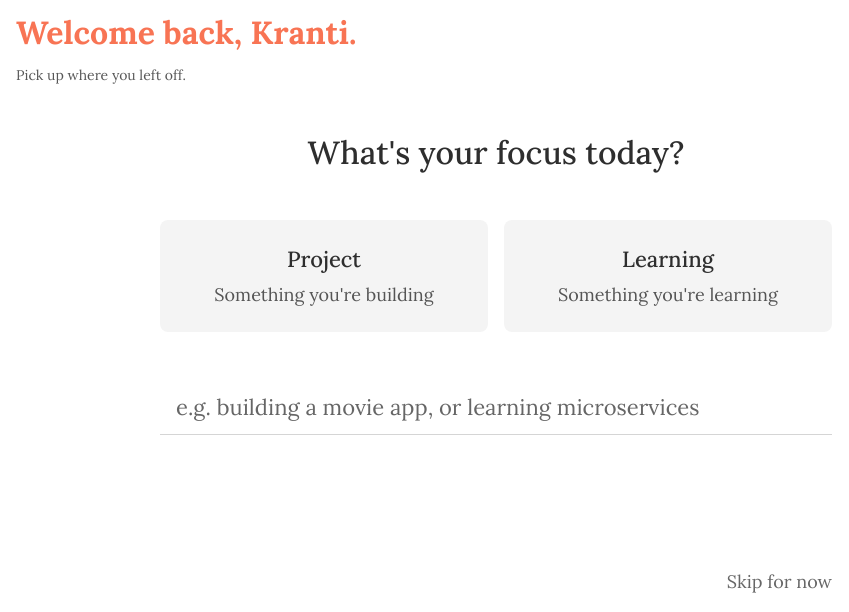
Scenario: Home › skipping the prompt (R9) › should reveal the dashboard in place, with no navigation
Click the button "Skip for now" at (779, 582), box [727,569,832,595]
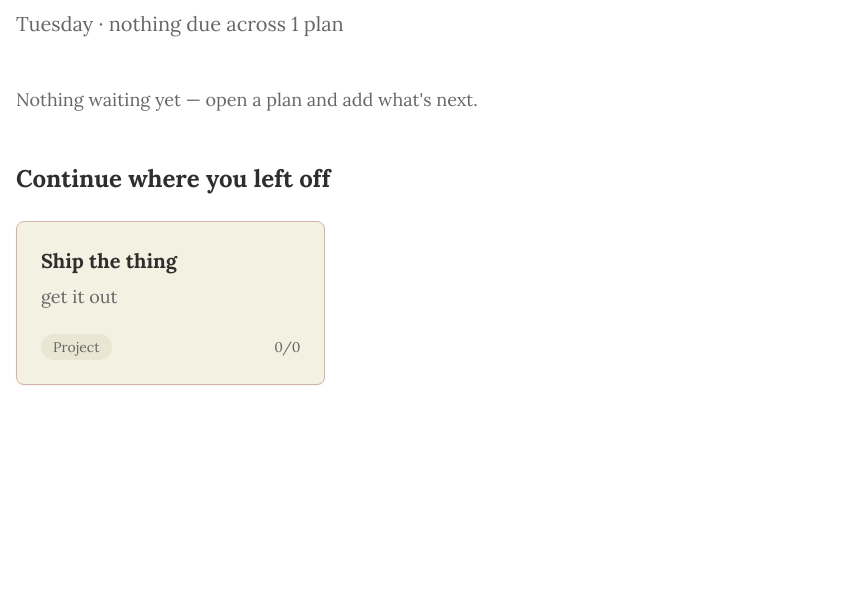
Expected: the heading "Continue where you left off" is shown, [16,163,330,194]
Expected: the heading "What's your focus today" is gone
